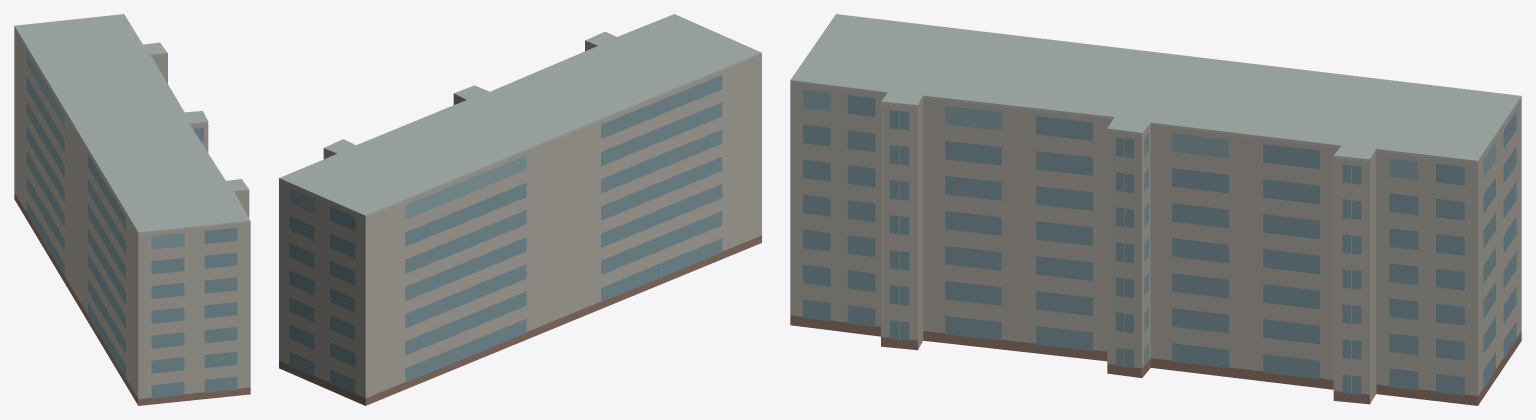
Rendered from survey-upis-32958226.glb.
3 renders of one model, left to right at view 1: azimuth 30°, elevation 25°; view 2: azimuth 150°, elevation 25°; view 3: azimuth 270°, elevation 25°, orthographic. The views are drawn at different scales.
Visible parts, largest first — view 1: survey-upis-32958226.tmp; view 2: survey-upis-32958226.tmp; view 3: survey-upis-32958226.tmp.
Boxes of the visible parts, x1,y1,x2,y2 form: survey-upis-32958226.tmp: [14, 14, 250, 405]; survey-upis-32958226.tmp: [279, 14, 761, 405]; survey-upis-32958226.tmp: [790, 14, 1521, 405].
Bounding box in the file's own units: 27.44 × 21.35 × 57.74.
